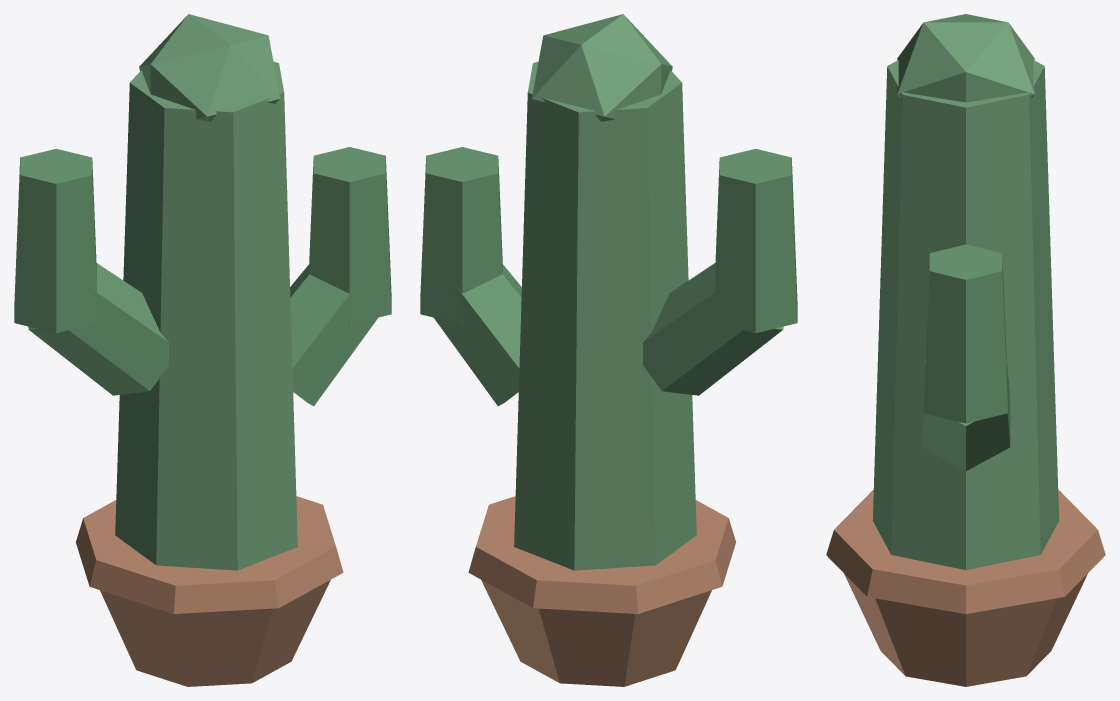
3 views of the same model, side by side, from view 1: azimuth 30°, elevation 25°; view 2: azimuth 150°, elevation 25°; view 3: azimuth 270°, elevation 25° (orthographic).
Parts seen in each view (by area): view 1: part0, part7, part3, part6, part5, part1, part2, part4; view 2: part0, part7, part3, part6, part5, part1, part2, part4; view 3: part0, part7, part6, part5, part1, part4.
Boxes of the visible parts, <box> form: part0: <box>115,61,297,570</box>; part7: <box>75,496,343,613</box>; part3: <box>14,148,97,333</box>; part6: <box>100,580,330,686</box>; part5: <box>309,147,391,324</box>; part1: <box>139,14,279,121</box>; part2: <box>28,263,169,395</box>; part4: <box>290,265,377,406</box>; part0: <box>514,61,696,570</box>; part7: <box>468,496,736,613</box>; part3: <box>714,148,797,333</box>; part6: <box>481,580,711,686</box>; part5: <box>420,147,502,324</box>; part1: <box>532,14,672,121</box>; part2: <box>642,263,783,395</box>; part4: <box>434,265,521,406</box>; part0: <box>872,60,1059,569</box>; part7: <box>826,490,1105,613</box>; part6: <box>844,573,1087,686</box>; part5: <box>923,244,1008,423</box>; part1: <box>897,14,1034,102</box>; part4: <box>921,360,1010,470</box>.
Bounding box in the file's own units: 2.83 × 4.46 × 1.8.
